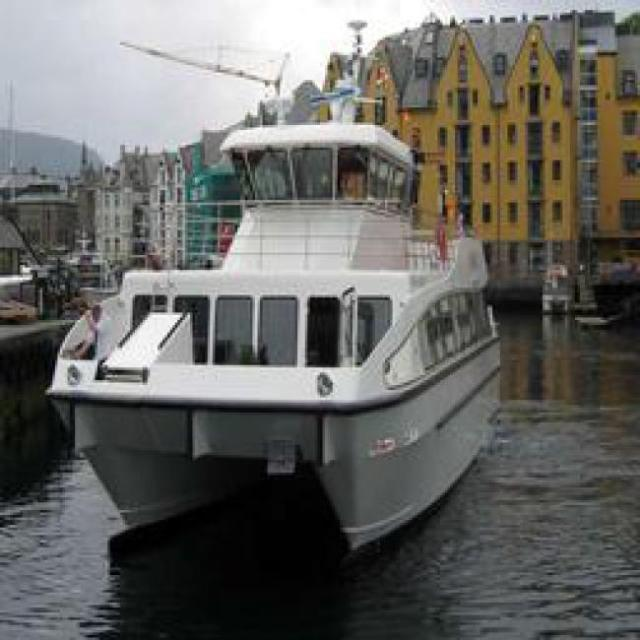boat: (77, 142, 531, 538)
